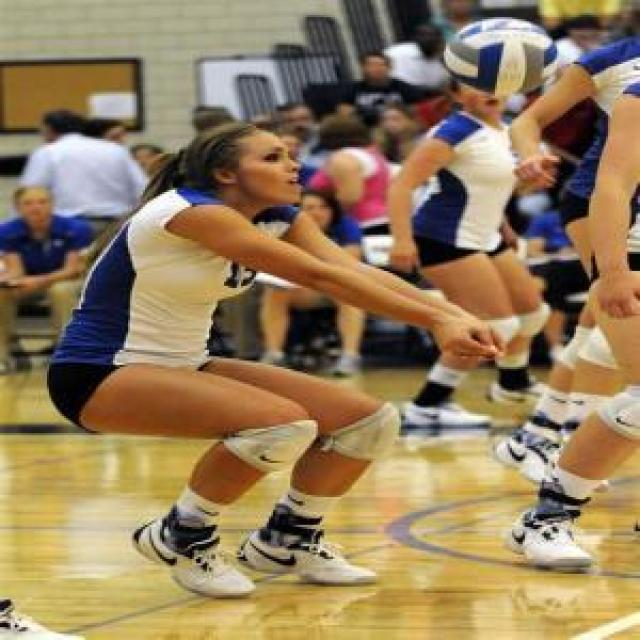volleyball: (442, 17, 556, 96)
